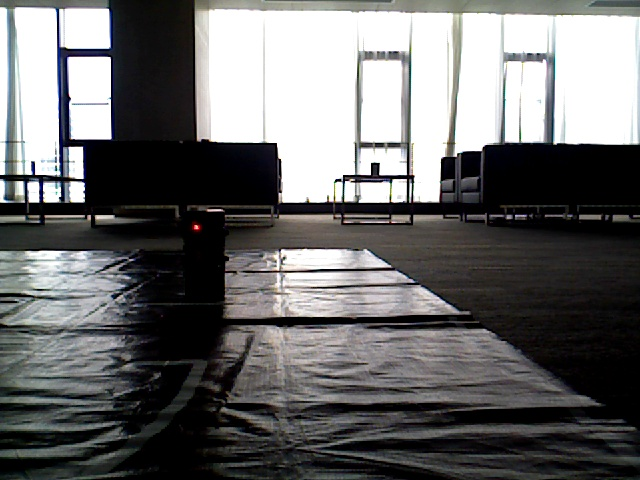red: (182, 209, 221, 291)
